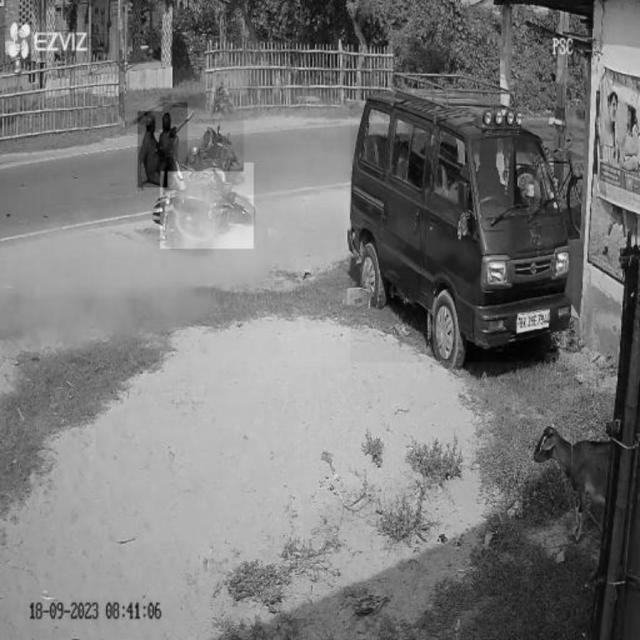person: (137, 112, 167, 188), (163, 102, 188, 170)
vehicle: (351, 87, 573, 363), (161, 163, 254, 249), (188, 119, 244, 171)
